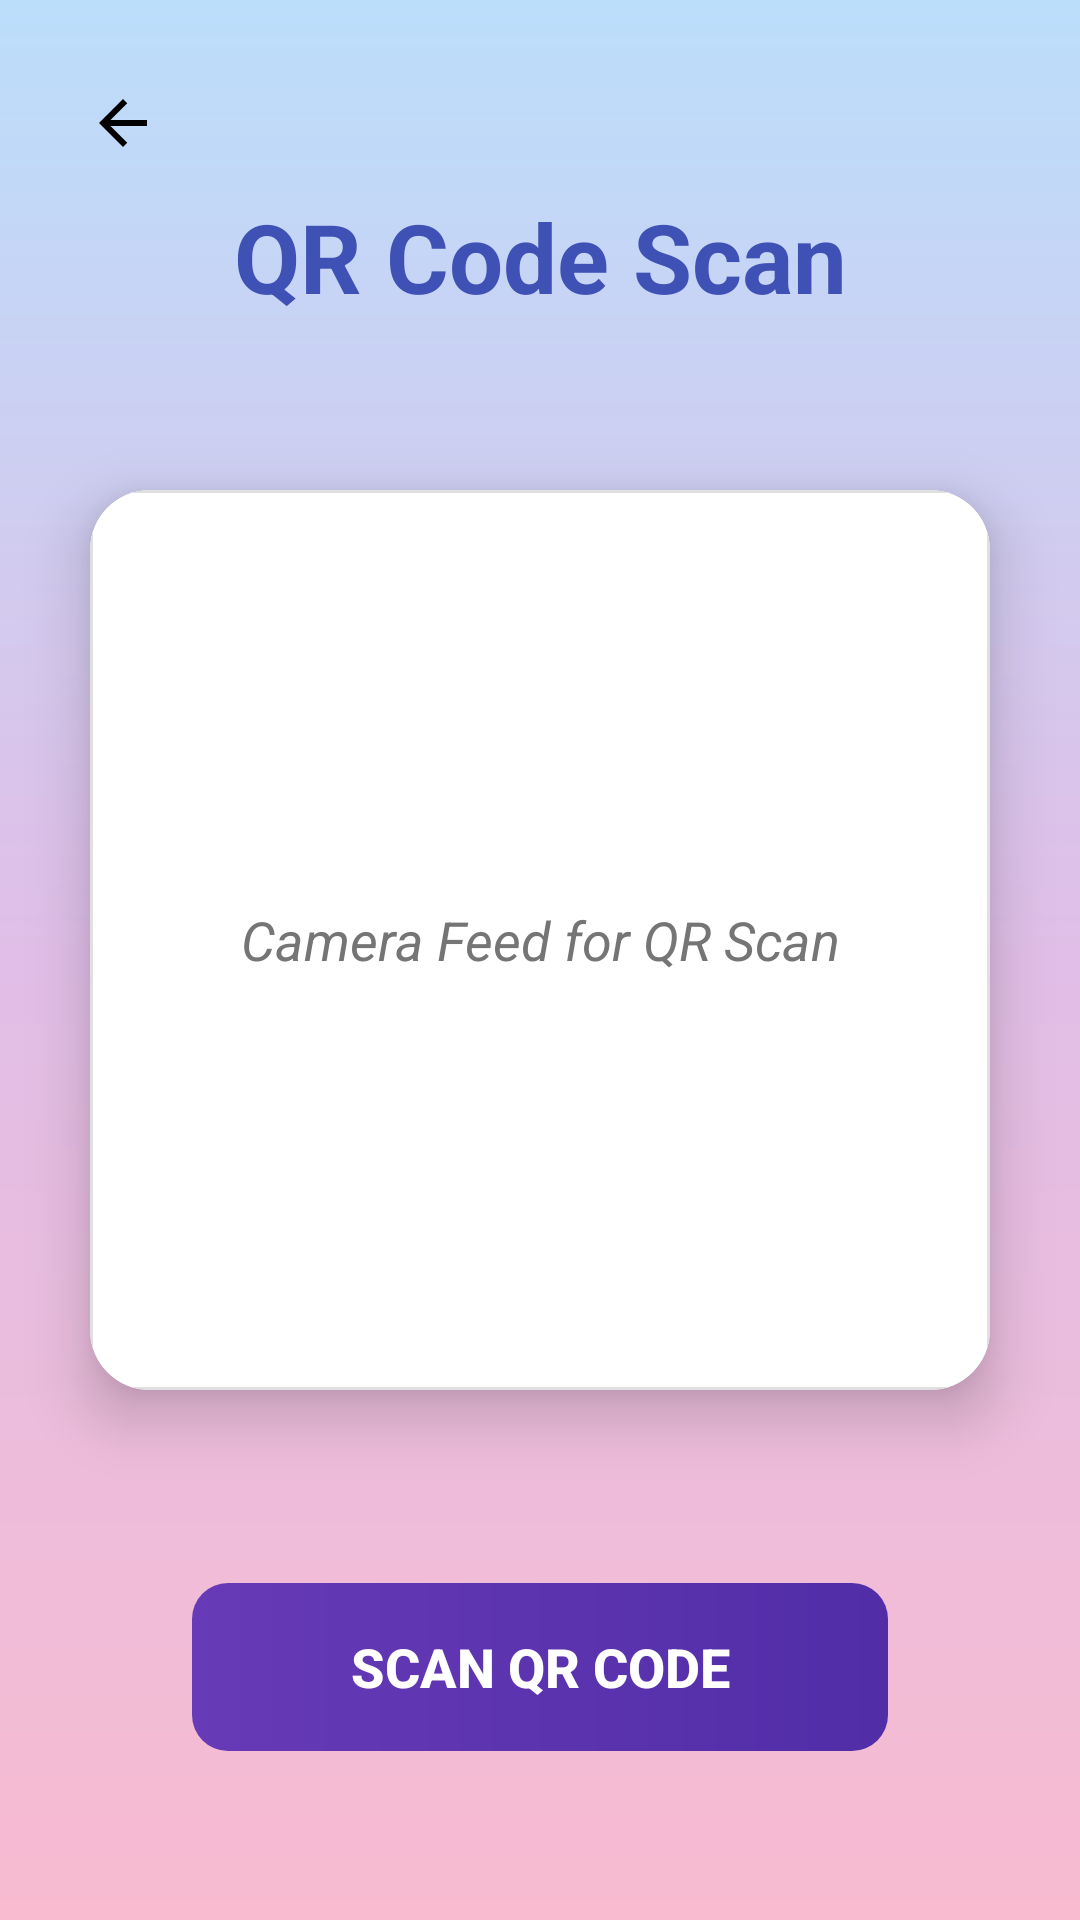

Named icons in this screenshot (1080w x 1920h) and their bounding boxes, box=[x1, y1, x2, y2]:
Back: box=[99, 99, 147, 147]
